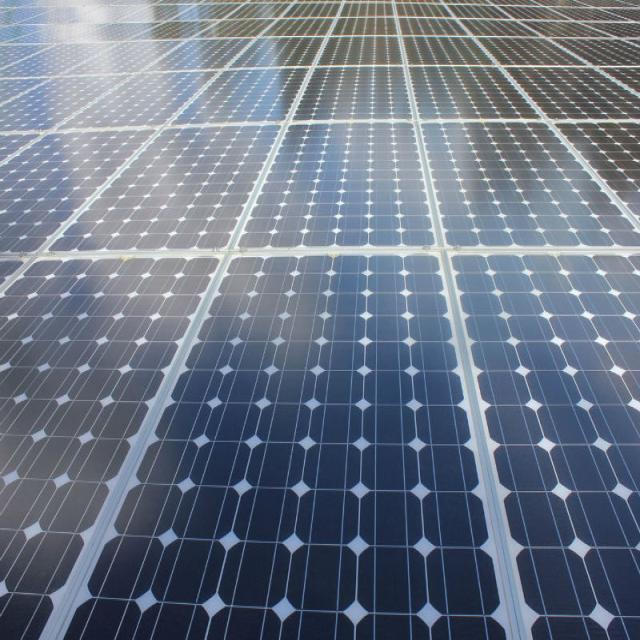clean-solar-panel: (1, 4, 640, 638)
